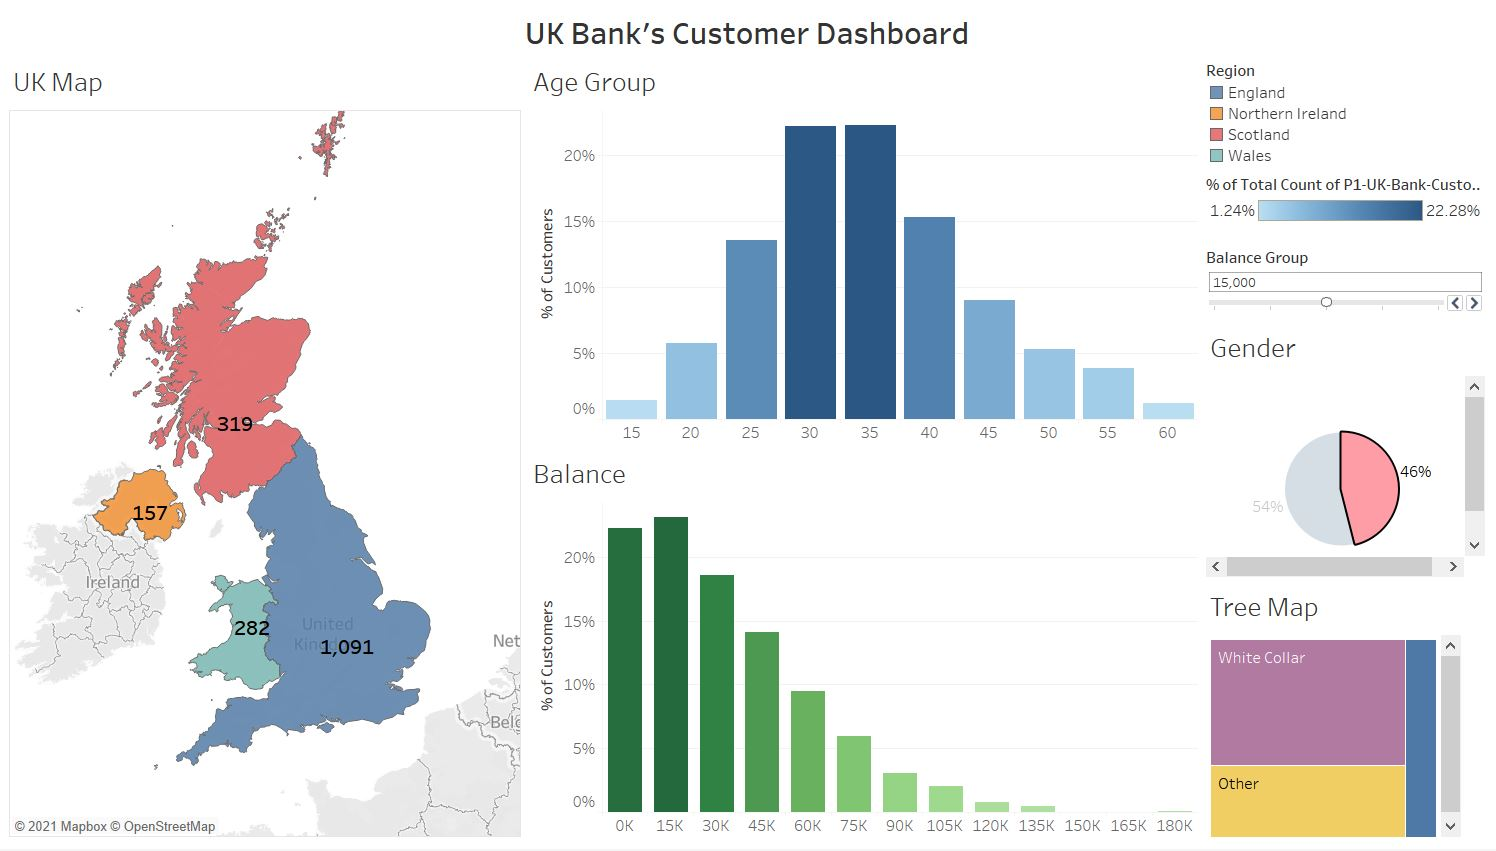

What the dashboard file says about the page in this screenshot:
{"tool":"tableau","page":{"name":"Banks Customer Dashboard","canvas":[1500,850],"ordinal":0},"visuals":[{"type":"worksheet","box":[0,0,1500,850]},{"type":"worksheet","param":"vert","box":[8,8,1484,834]},{"type":"worksheet","box":[8,8,1484,49]},{"type":"worksheet","param":"horz","box":[8,57,1484,785]},{"type":"worksheet","box":[8,57,1197,785]},{"type":"worksheet","title":"UK Map","mark":"Multipolygon","box":[8,57,519.9,785]},{"type":"worksheet","title":"Age Group","mark":"Bar","rows":["P1-UK-Bank-Customers.csv_3A4930296E704B23B4528DF96B1B5F84"],"cols":["Age (bin)"],"box":[527.9,57,677.1,392.5]},{"type":"worksheet","param":"vert","box":[1205,57,287,785]},{"type":"worksheet","title":"UK Map","mark":"Multipolygon","param":"[federated.1ck81ku09axzwx194s5yd11b2vr0].[none:Region:nk]","box":[1205,57,287,114]},{"type":"worksheet","title":"Age Group","mark":"Bar","rows":["P1-UK-Bank-Customers.csv_3A4930296E704B23B4528DF96B1B5F84"],"cols":["Age (bin)"],"param":"[federated.1ck81ku09axzwx194s5yd11b2vr0].[__tableau_internal_object_id__].[pcto:","box":[1205,171,287,73]},{"type":"worksheet","param":"[Parameters].[Parameter 1]","box":[1205,244,287,79]},{"type":"worksheet","title":"Gender","mark":"Pie","box":[1205,323,287,259.5]},{"type":"worksheet","title":"Balance","mark":"Automatic","rows":["P1-UK-Bank-Customers.csv_3A4930296E704B23B4528DF96B1B5F84"],"cols":["Balance (bin)"],"box":[527.9,449.5,677.1,392.5]},{"type":"worksheet","title":"Tree Map","mark":"Automatic","box":[1205,582.5,287,259.5]}]}

Visuals, with their boxes in screenshot pixels (x1, y1, x2, y2), scaled from the page's 1500x850 canvas onto the 1496x851 screenshot:
worksheet: [x1=0, y1=0, x2=1495, y2=850]
worksheet: [x1=8, y1=8, x2=1488, y2=843]
worksheet: [x1=8, y1=8, x2=1488, y2=57]
worksheet: [x1=8, y1=57, x2=1488, y2=843]
worksheet: [x1=8, y1=57, x2=1202, y2=843]
"UK Map" worksheet (Multipolygon marks): [x1=8, y1=57, x2=526, y2=843]
"Age Group" worksheet (Bar marks): [x1=526, y1=57, x2=1202, y2=450]
worksheet: [x1=1202, y1=57, x2=1488, y2=843]
"UK Map" worksheet (Multipolygon marks): [x1=1202, y1=57, x2=1488, y2=171]
"Age Group" worksheet (Bar marks): [x1=1202, y1=171, x2=1488, y2=244]
worksheet: [x1=1202, y1=244, x2=1488, y2=323]
"Gender" worksheet (Pie marks): [x1=1202, y1=323, x2=1488, y2=583]
"Balance" worksheet: [x1=526, y1=450, x2=1202, y2=843]
"Tree Map" worksheet: [x1=1202, y1=583, x2=1488, y2=843]
